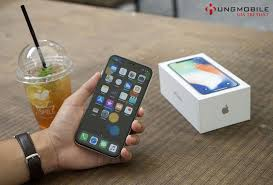iphone: (72, 53, 157, 160)
iphone10: (72, 53, 157, 160)
